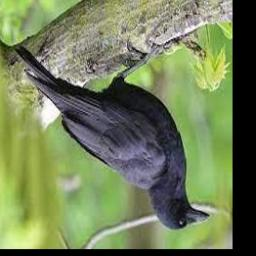Crow: (15, 44, 211, 230)
